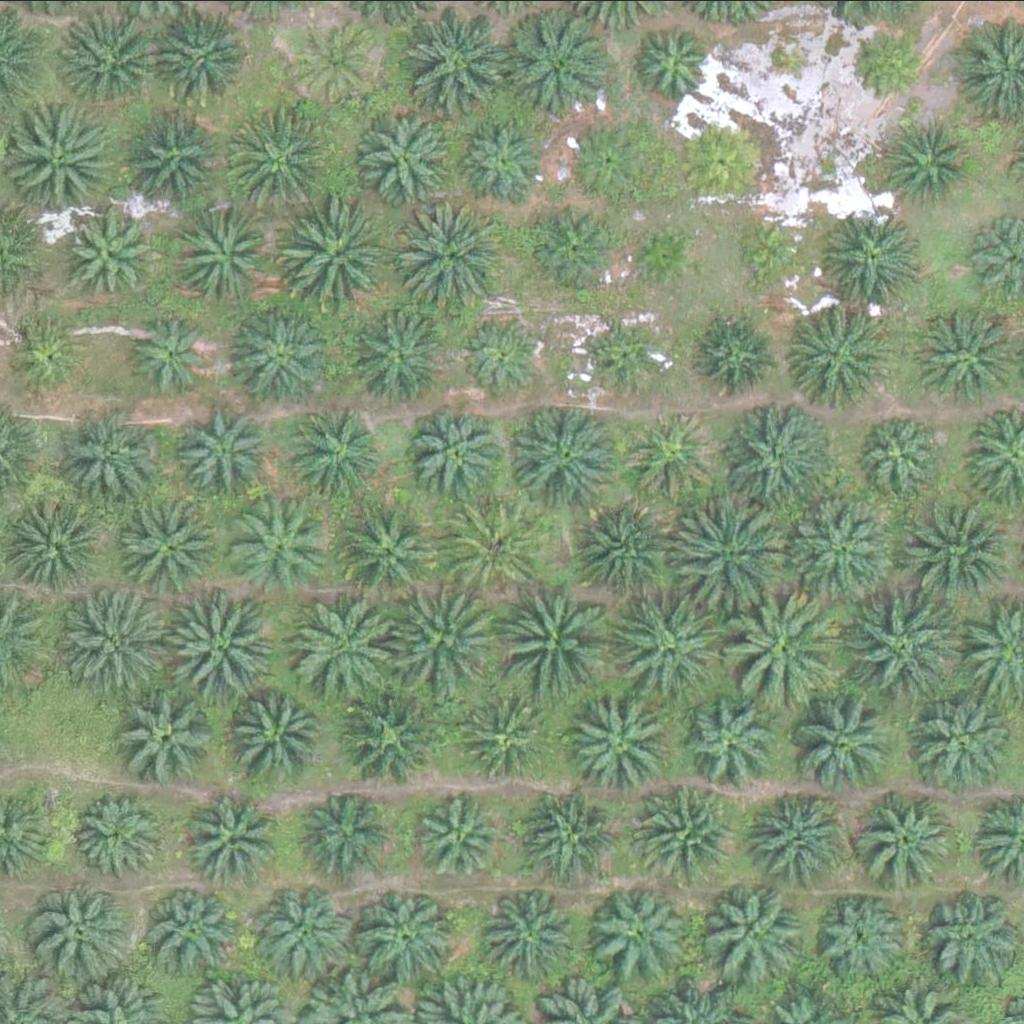Kelapa_Sawit: (615, 593, 729, 706), (387, 584, 501, 697), (59, 587, 172, 700), (1, 109, 114, 222), (846, 589, 959, 702), (394, 200, 507, 313), (282, 199, 395, 312), (295, 590, 408, 703), (166, 584, 279, 697), (783, 489, 897, 601), (490, 583, 604, 695), (729, 592, 842, 704), (677, 502, 790, 614), (898, 497, 1011, 609), (718, 399, 831, 511), (224, 102, 337, 214), (508, 400, 621, 512), (407, 4, 520, 116), (500, 9, 613, 121), (116, 685, 217, 785), (4, 489, 105, 589), (60, 400, 161, 500), (123, 117, 224, 217), (54, 14, 155, 114), (588, 885, 689, 985), (856, 787, 957, 887), (632, 786, 733, 886), (683, 689, 784, 789), (793, 691, 894, 791), (822, 212, 923, 312), (356, 109, 457, 209), (175, 205, 276, 305), (235, 307, 336, 407), (348, 305, 449, 405), (407, 403, 508, 503), (225, 497, 326, 597), (335, 500, 436, 600), (520, 784, 621, 884), (353, 885, 454, 985), (479, 887, 580, 987), (27, 874, 127, 974), (148, 882, 248, 982), (118, 493, 218, 593), (707, 880, 807, 980), (743, 779, 843, 879), (574, 695, 674, 795), (911, 692, 1011, 792), (578, 499, 678, 599), (786, 306, 886, 406), (151, 13, 251, 113), (444, 494, 544, 594), (226, 683, 326, 783), (340, 683, 440, 783), (291, 780, 391, 880), (182, 788, 282, 888), (255, 879, 355, 979), (676, 117, 765, 205), (69, 790, 157, 878), (67, 213, 155, 301), (563, 117, 651, 205), (294, 16, 382, 104), (461, 312, 549, 400), (293, 409, 381, 497), (184, 410, 272, 498), (459, 696, 547, 784), (421, 794, 509, 882), (459, 116, 548, 203), (131, 314, 219, 401), (626, 410, 714, 497), (818, 893, 906, 980), (860, 406, 948, 493), (690, 311, 778, 398), (887, 119, 975, 206), (631, 22, 719, 109), (533, 207, 621, 294), (848, 27, 924, 102), (625, 219, 701, 294), (733, 215, 809, 290), (596, 313, 671, 388)
